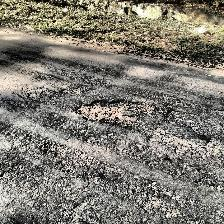pothole: (72, 98, 164, 128), (38, 141, 66, 157)
